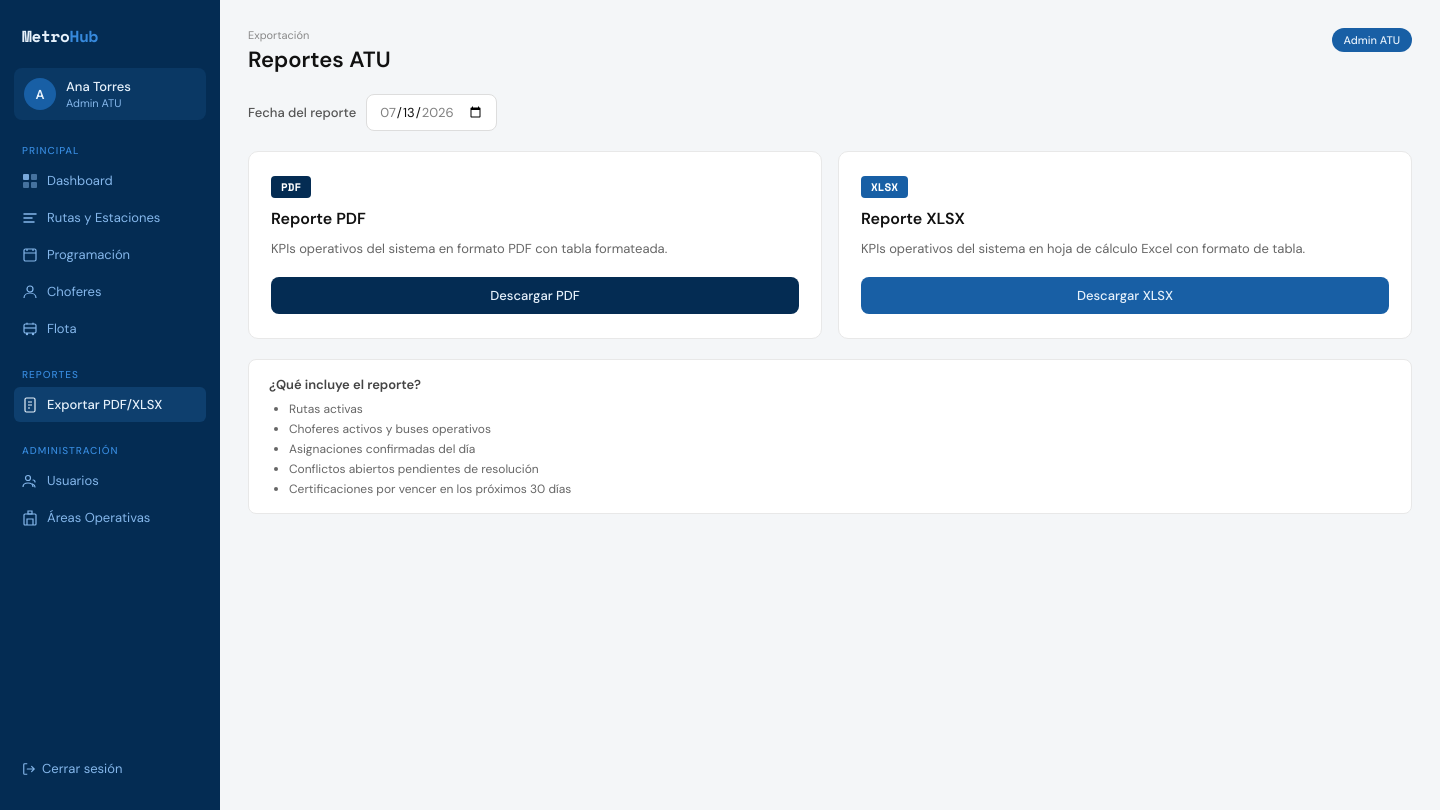
it: Reportes (RF07) › exporta el PDF y muestra confirmación
Click the button "Descargar PDF". click: (535, 295)
box: [271, 276, 799, 314]
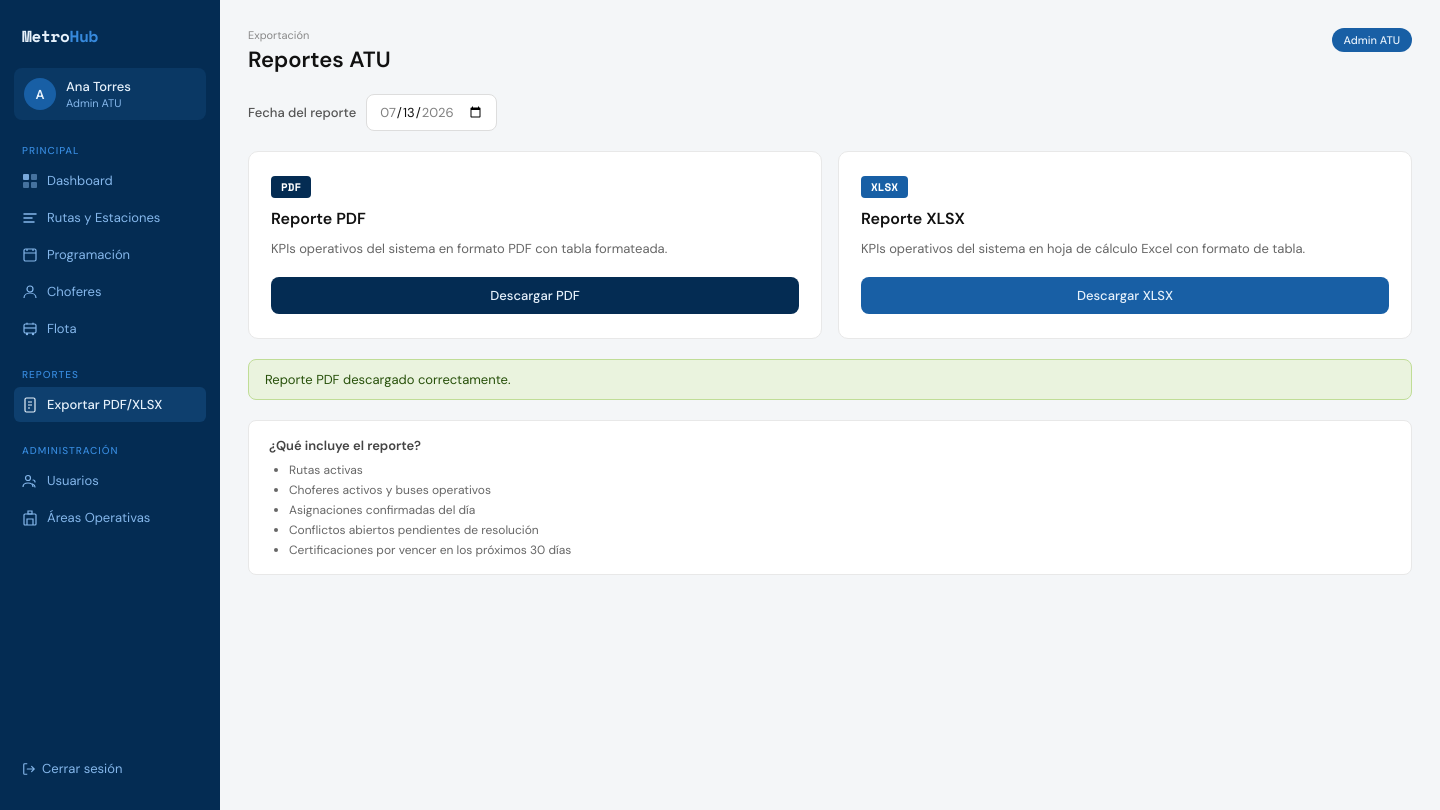
Expected: the text "Reporte PDF descargado correctamente." is shown, [265, 370, 510, 388]
